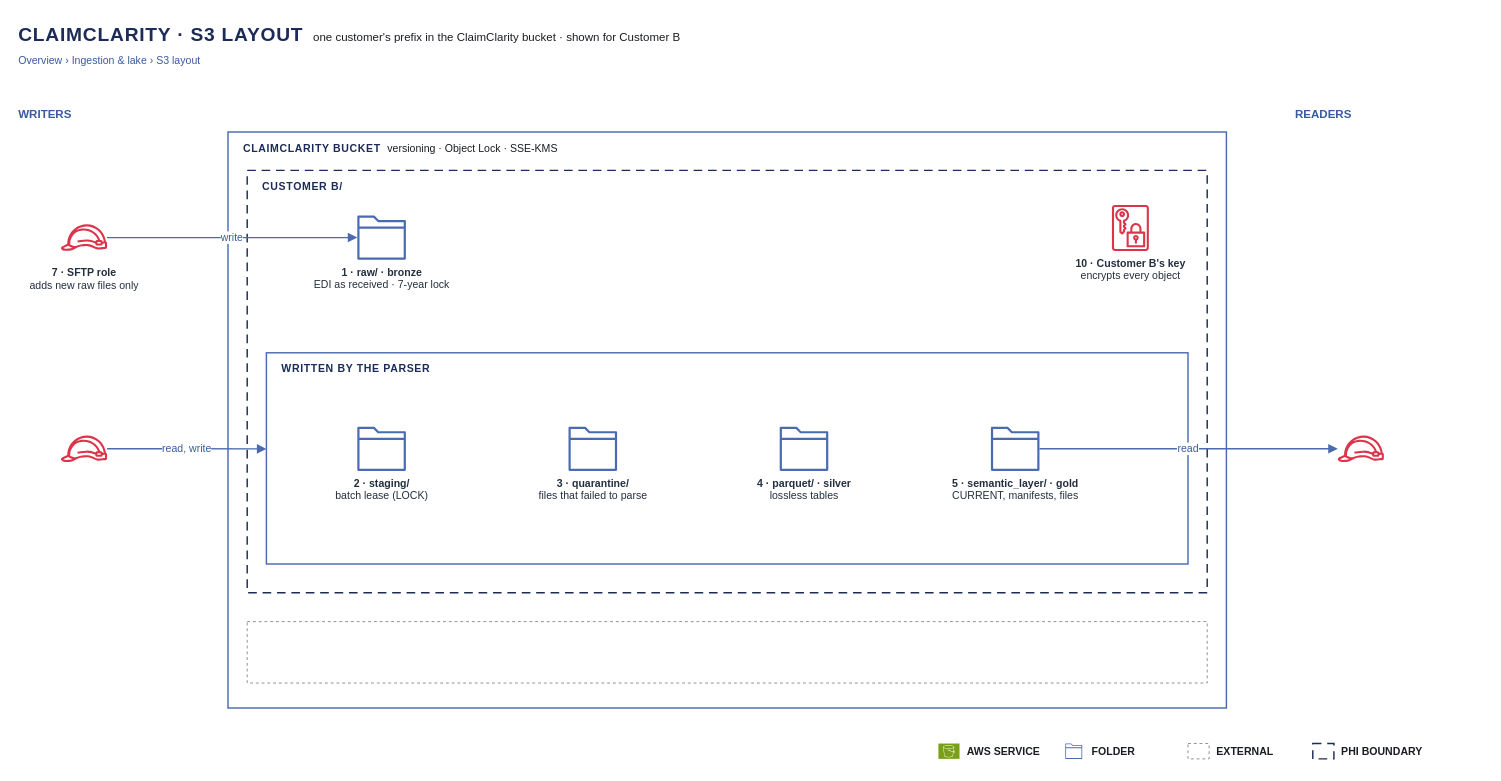
Image size: 1501x781. Some labels were removed from this diagram. The centre of each missing label's shape, as x and y in pixels:
"6 · CUSTOMER A/ AND EVERY OTHER CUSTOMER same layout, own key and roles" belongs at pixel 726 652.
"8 · Parser role reads raw, writes the four" belongs at pixel 83 448.
"9 · Reader role reads gold only" belongs at pixel 1360 448.
